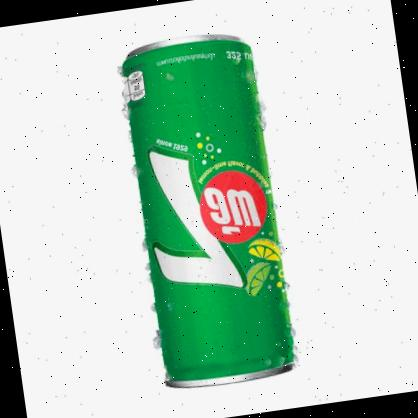can: (114, 26, 302, 398)
